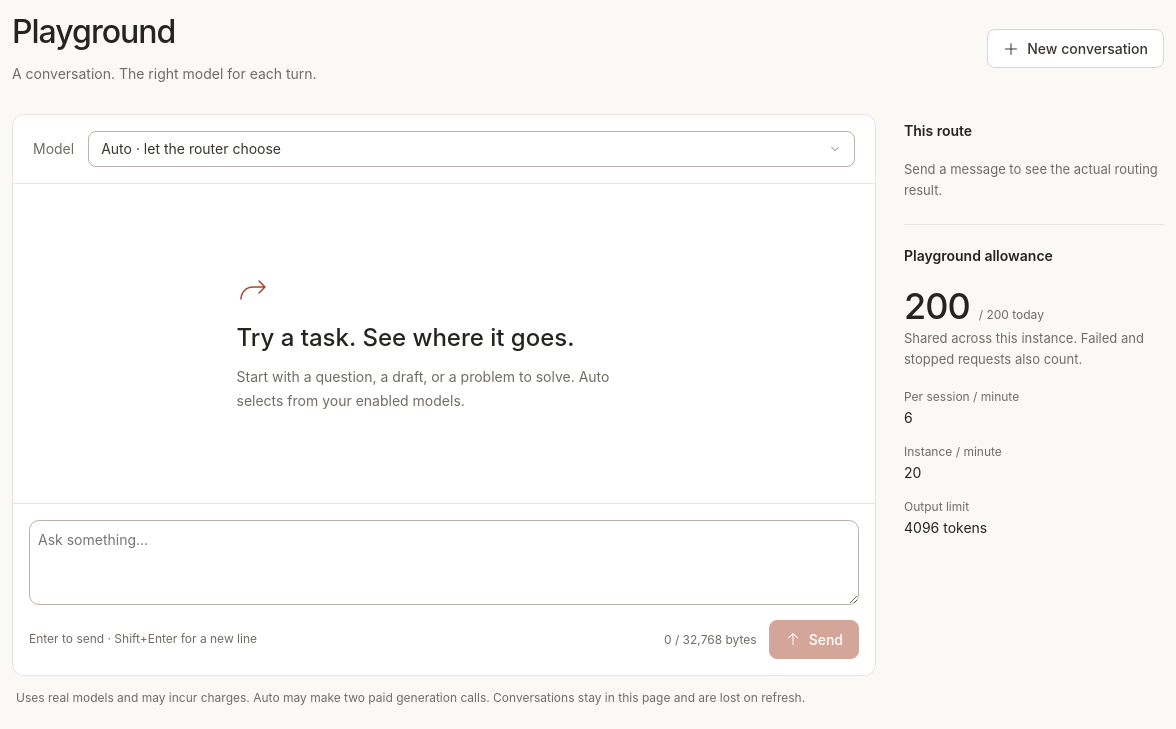
Scenario: shows the selected model and actionable provider failure
This screenshot has width=1176, height=729.
Expected: the text "0 / 32,768 bytes" is shown, [664, 630, 757, 649]
Type "hi" into the text box named "Message" at (444, 562), box [29, 520, 859, 605]
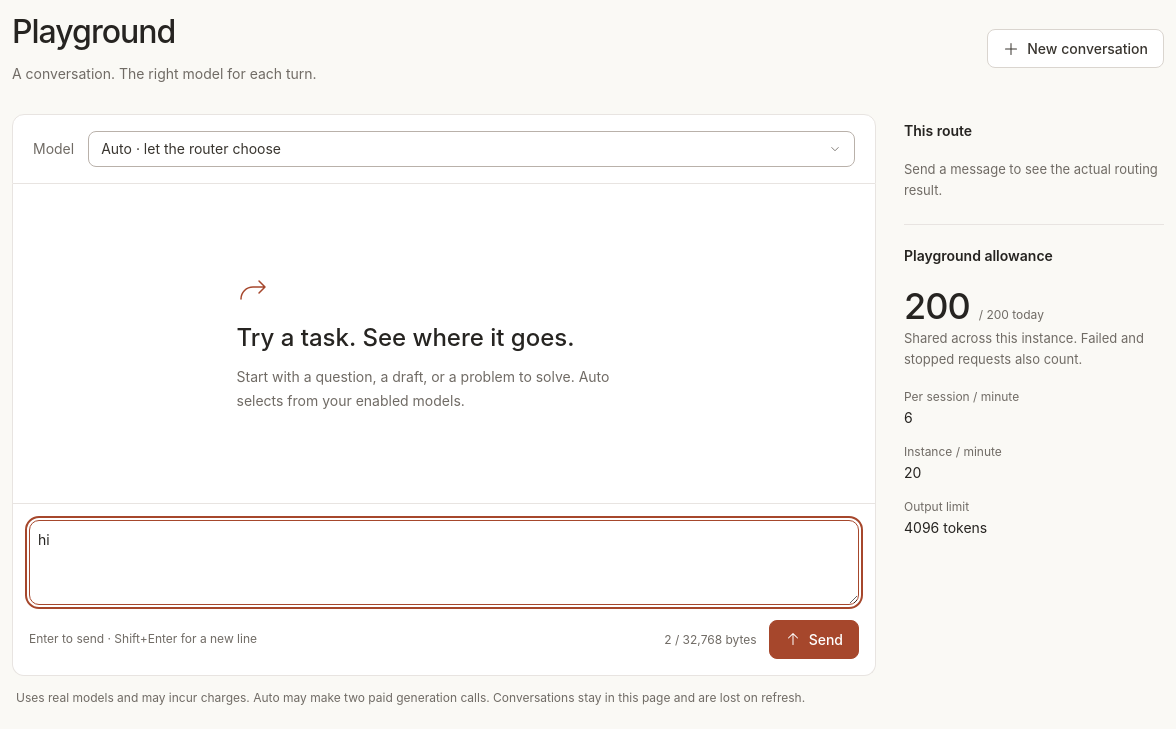
Click the button "Send" at (814, 640), box [769, 620, 859, 659]
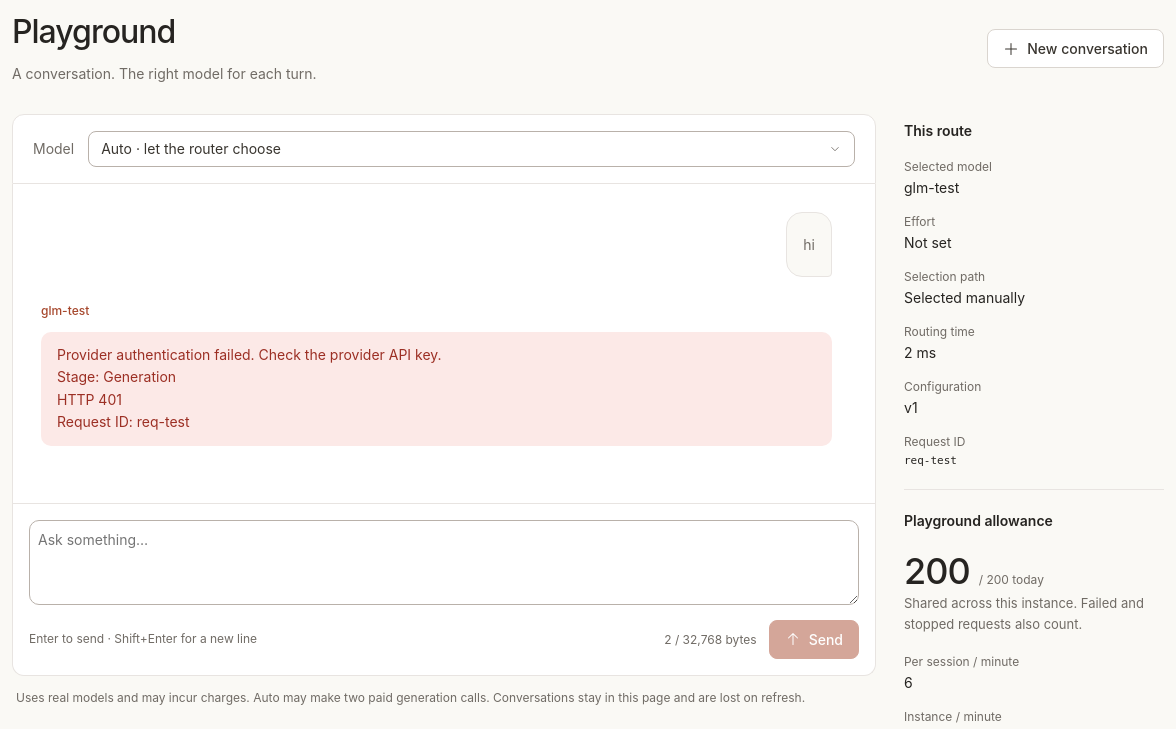
Expected: the message shows "Provider authentication failed", [57, 346, 442, 363]
Expected: the message shows "HTTP 401", [41, 332, 832, 446]
Expected: the message shows "req-test", [137, 413, 190, 430]
